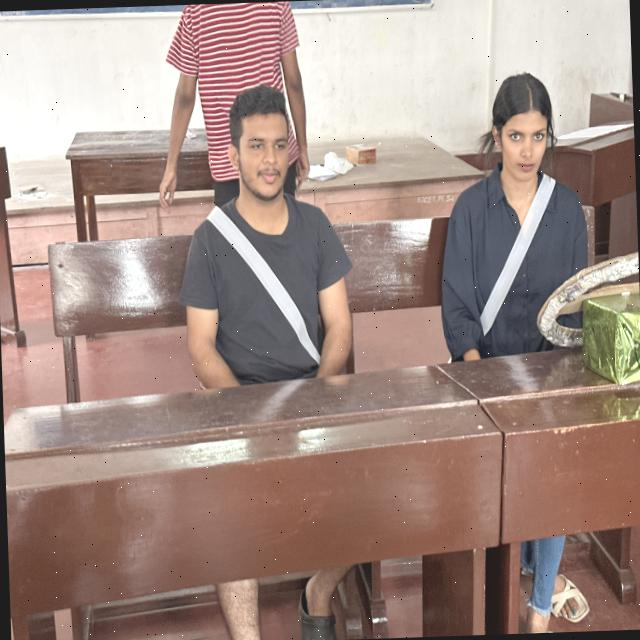seatbelt: (442, 166, 587, 356), (198, 193, 340, 380)
